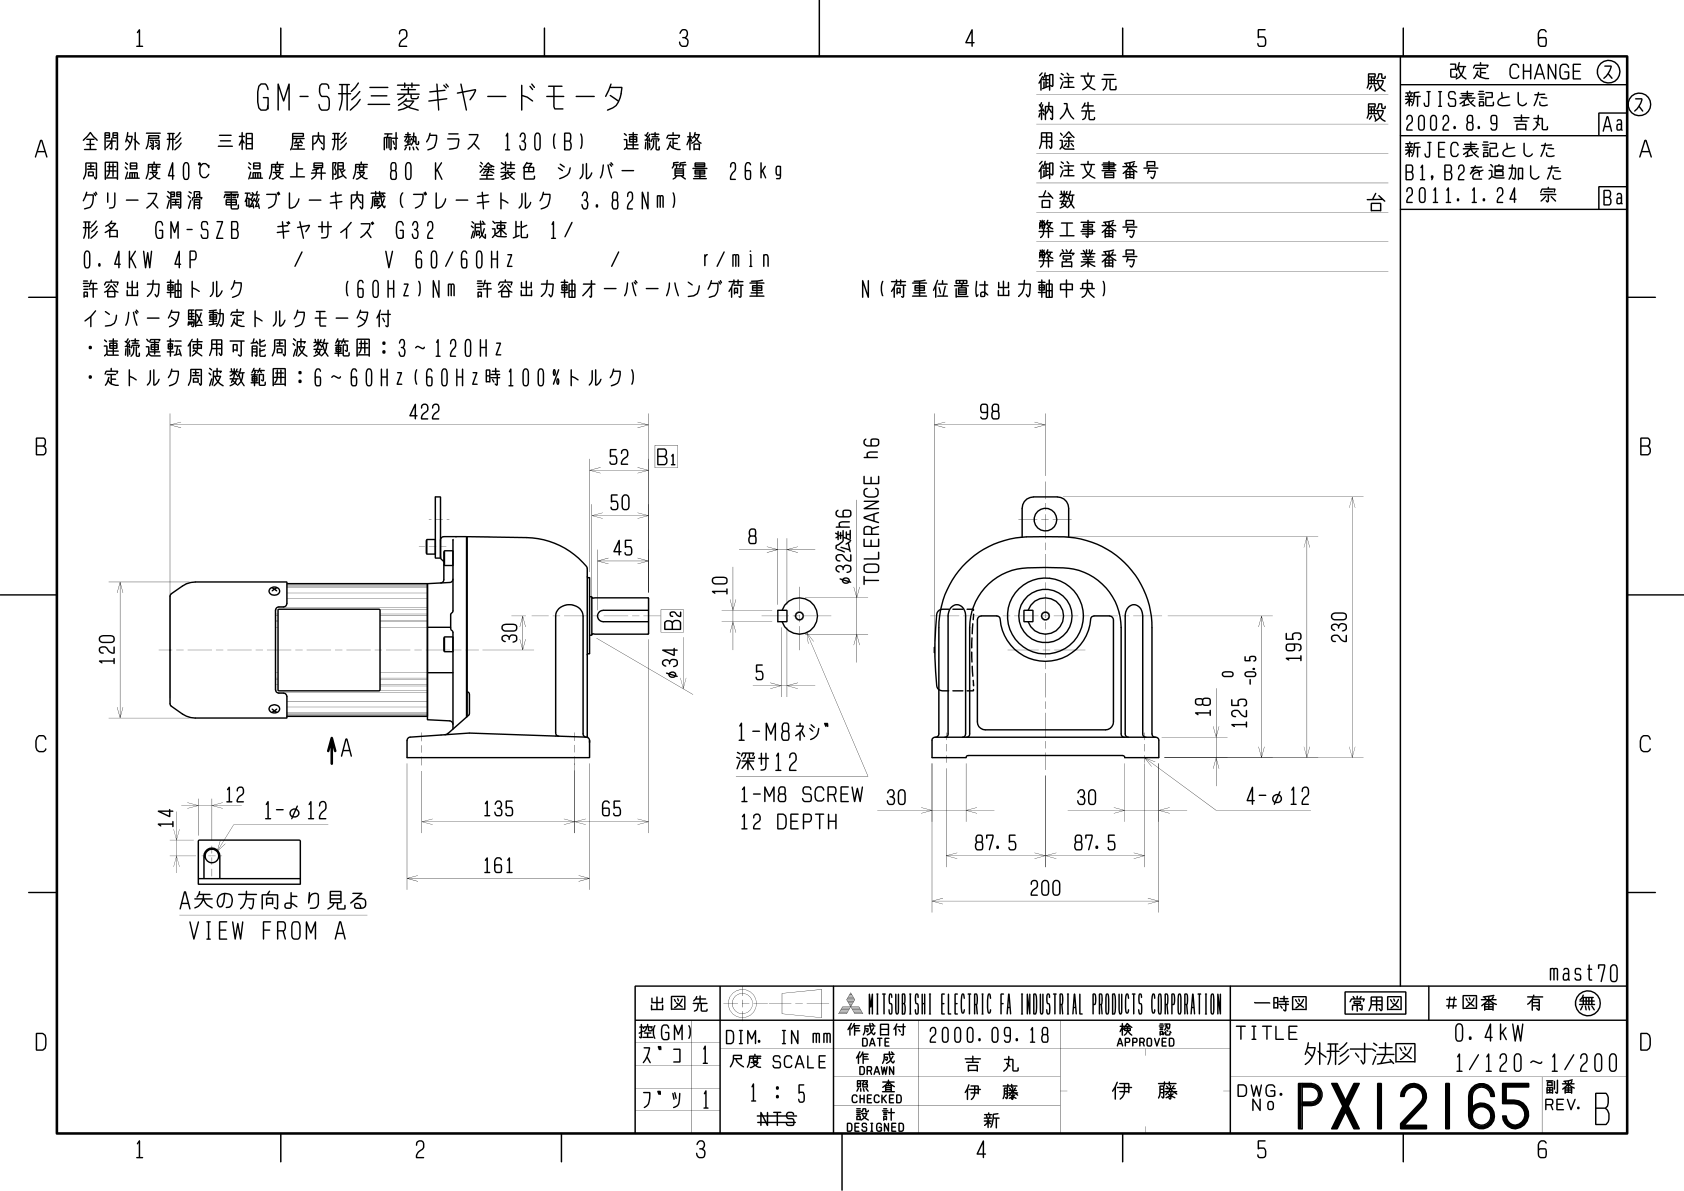GM_S_インバタ屋外＿三相_脚: (73, 392, 1383, 971)
